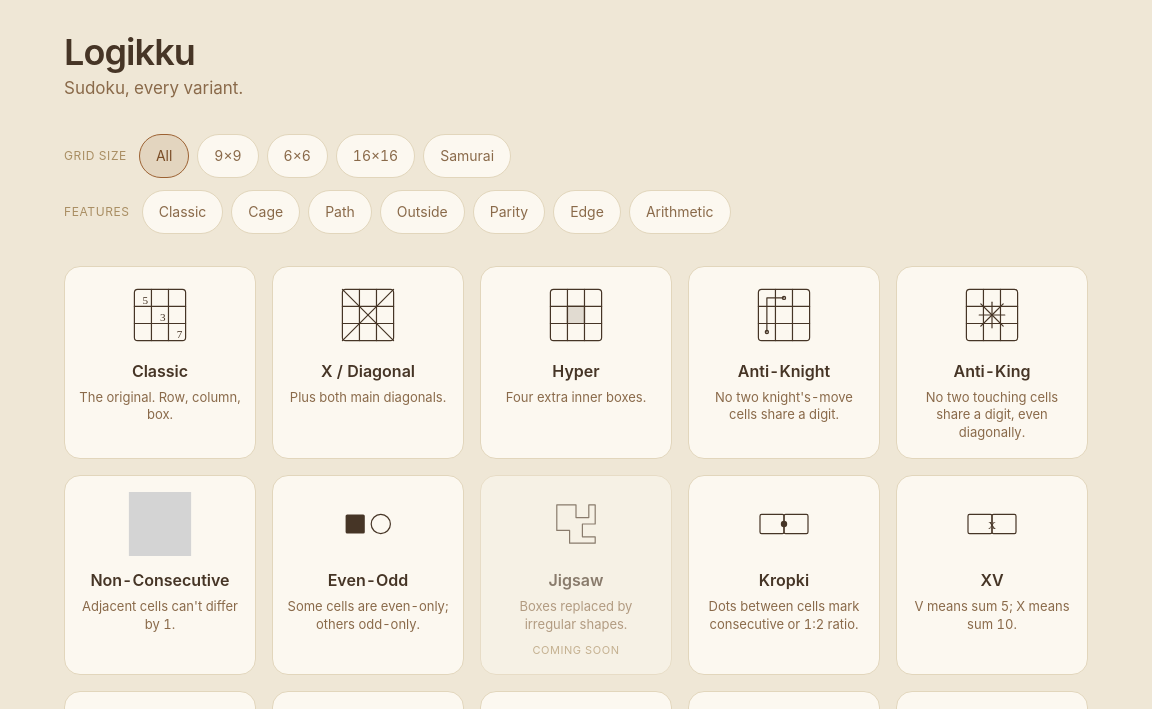
Home › empty intersection shows empty state
expect the link with test id "variant-card-classic" is shown: met, box x1=64 y1=266 x2=256 y2=459
Click the button with test id "filter-size-6x6".
click(297, 156)  # box x1=267 y1=134 x2=328 y2=178
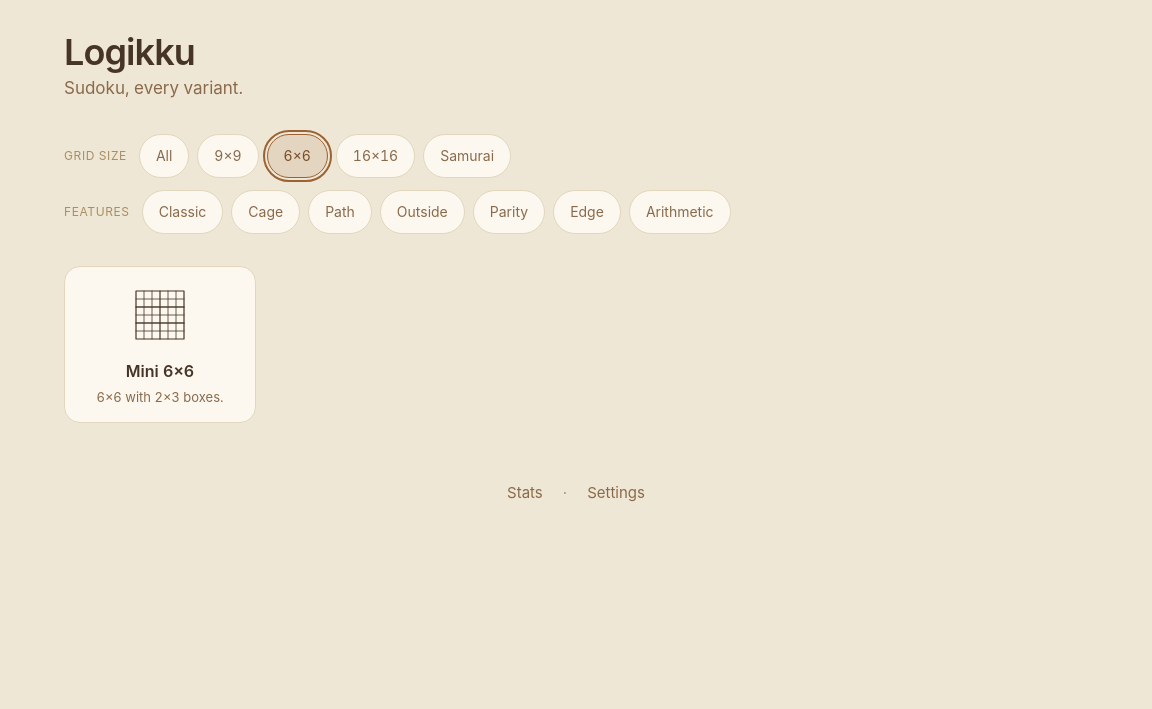
Click the button with test id "filter-feature-cage".
click(266, 212)  # box x1=231 y1=190 x2=300 y2=234
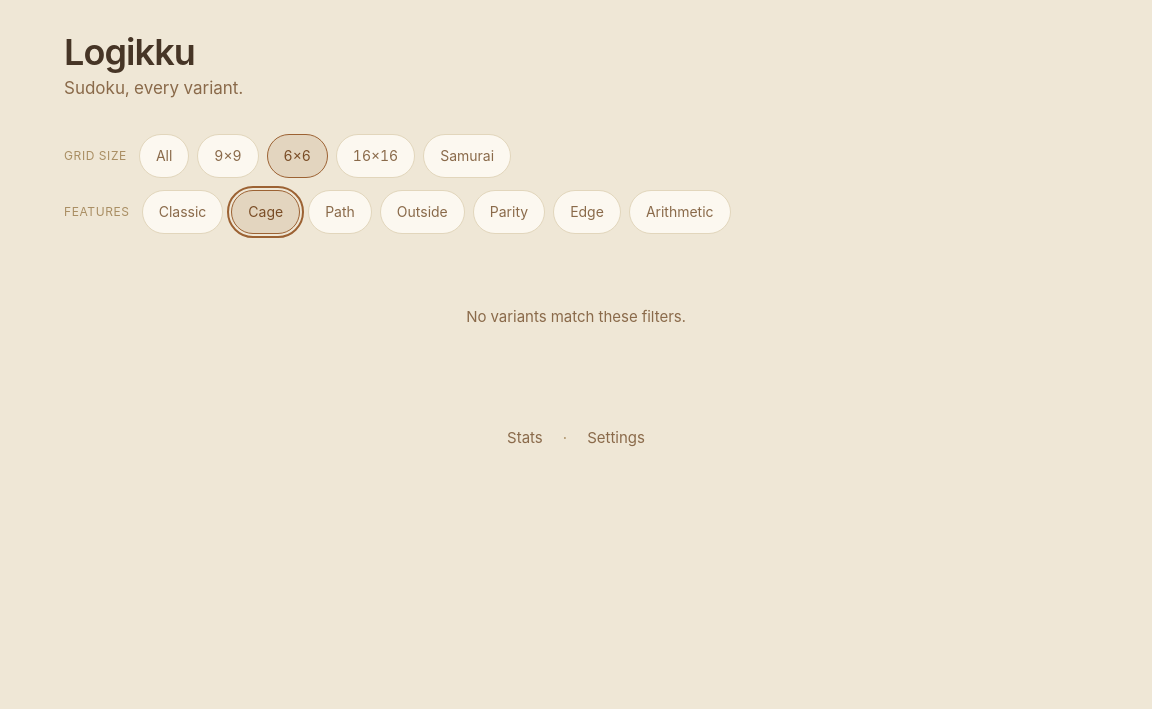
expect the text "No variants match these filters." is shown: met, box x1=466 y1=306 x2=686 y2=326
